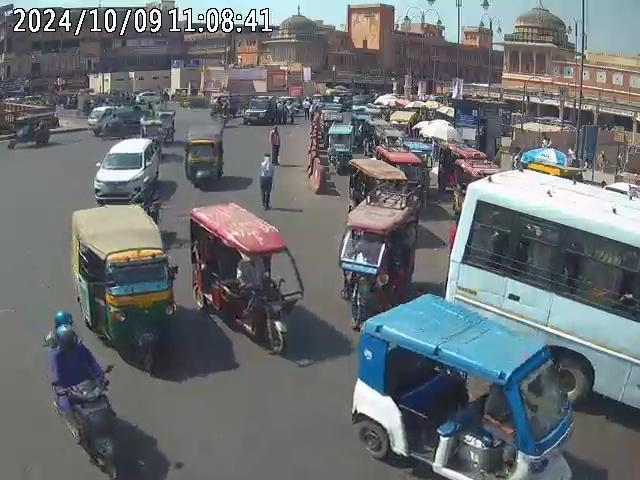auto: (351, 293, 571, 480), (187, 200, 306, 356), (67, 204, 178, 371), (339, 189, 422, 328), (182, 122, 226, 189), (7, 113, 54, 152), (324, 121, 354, 174)
bus: (452, 166, 638, 380)
car: (93, 137, 161, 204)
helmet: (54, 322, 78, 350), (54, 308, 76, 328)
motorbike-rider: (130, 178, 163, 223)
person: (257, 150, 277, 210), (306, 147, 327, 195), (269, 127, 287, 169)
scooty-rider: (43, 310, 139, 478)
